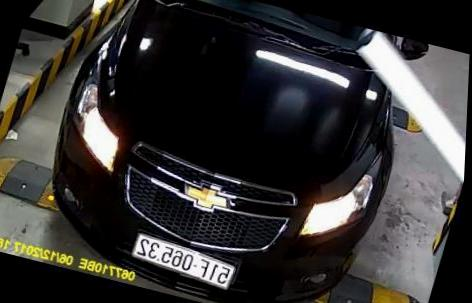License_Plate: (129, 221, 241, 292)
